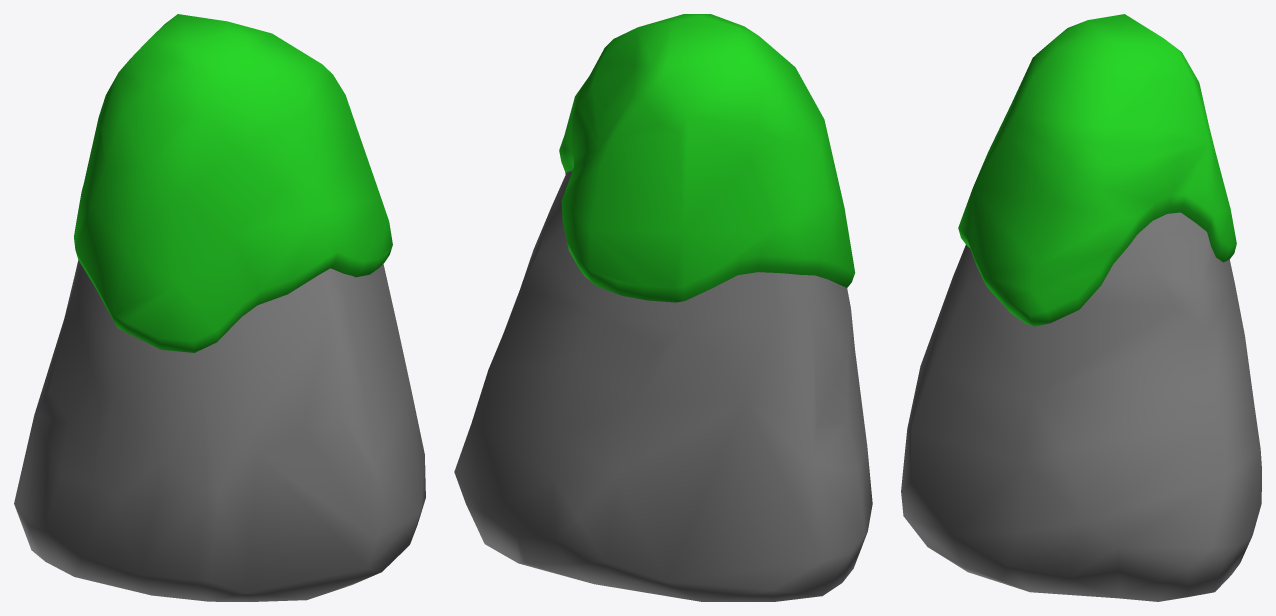
File: stone5.fbx
The picture shows the model from 3 angles, left to right: view 1: azimuth 30°, elevation 25°; view 2: azimuth 150°, elevation 25°; view 3: azimuth 270°, elevation 25°; orthographic projection. The views are drawn at different scales.
Parts seen in each view (by area): view 1: 5stone, 5moss; view 2: 5stone, 5moss; view 3: 5stone, 5moss.
Part boxes in pixels (x1,y1,x2,y2): 5stone: (14,260,425,601); 5moss: (74,14,392,352); 5stone: (454,171,872,601); 5moss: (559,14,855,302); 5stone: (901,212,1261,601); 5moss: (958,14,1236,326).
Size of the model in its own units: 1076 by 1483 by 976.
